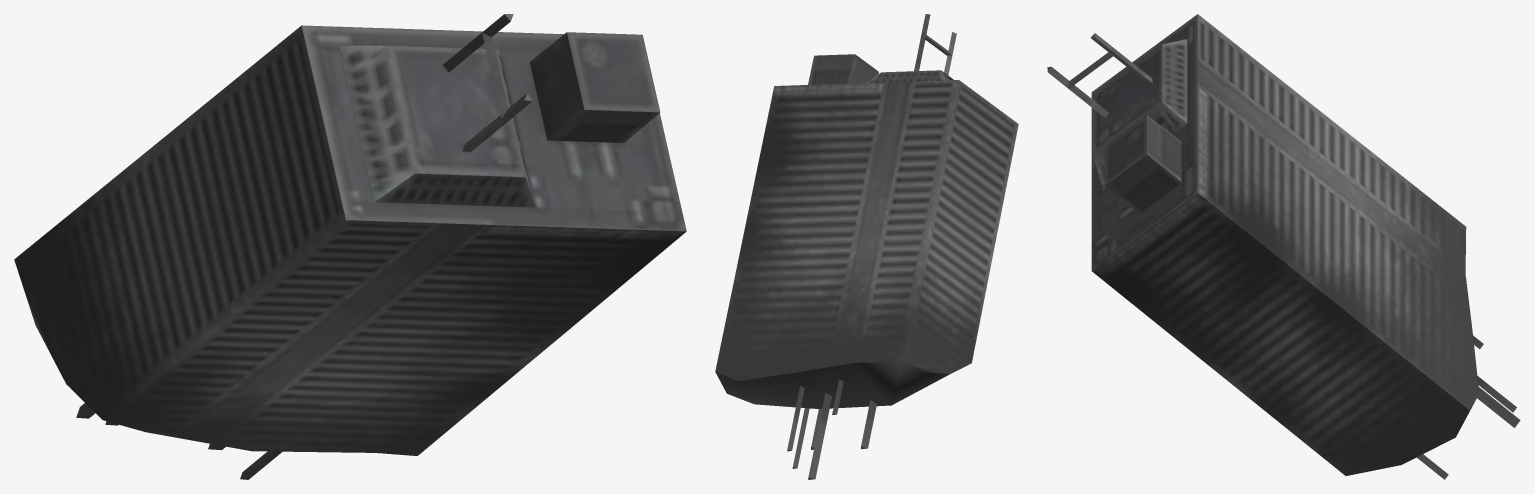
Rendered from skyBuildingAAC_pos_grp (5).fbx.
The picture shows the model from 3 angles, left to right: view 1: azimuth 30°, elevation 25°; view 2: azimuth 150°, elevation 25°; view 3: azimuth 270°, elevation 25°; orthographic projection. The views are drawn at different scales.
Parts seen in each view (by area): view 1: skyBuildingAAC_geo; view 2: skyBuildingAAC_geo; view 3: skyBuildingAAC_geo.
Boxes of the visible parts, bbox=[...] form: skyBuildingAAC_geo: bbox=[14, 14, 686, 479]; skyBuildingAAC_geo: bbox=[715, 14, 1018, 479]; skyBuildingAAC_geo: bbox=[1047, 14, 1520, 479].
Bounding box in the file's own units: 6.45 × 8.89 × 8.52.
